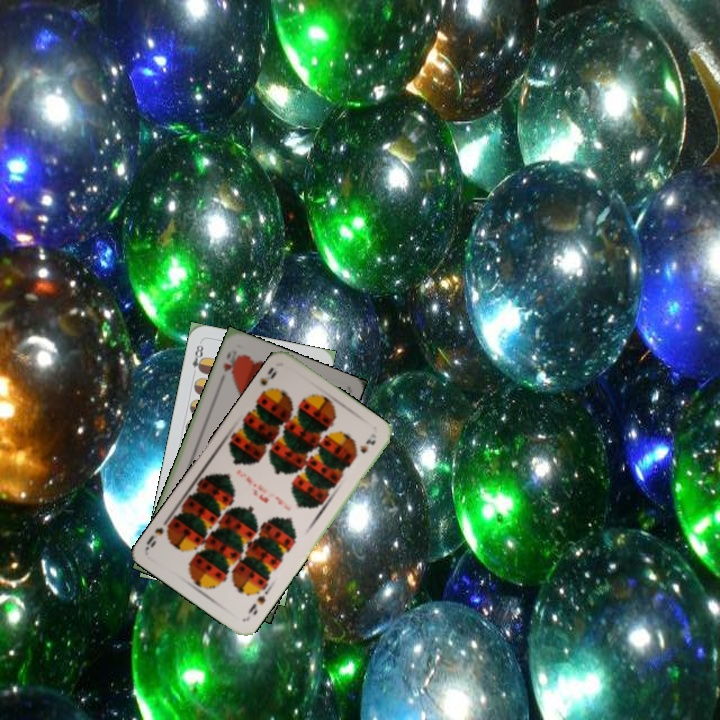E8: (188, 339, 207, 379)
HO: (219, 347, 242, 376)
S9: (255, 363, 279, 399), (243, 591, 268, 618)
